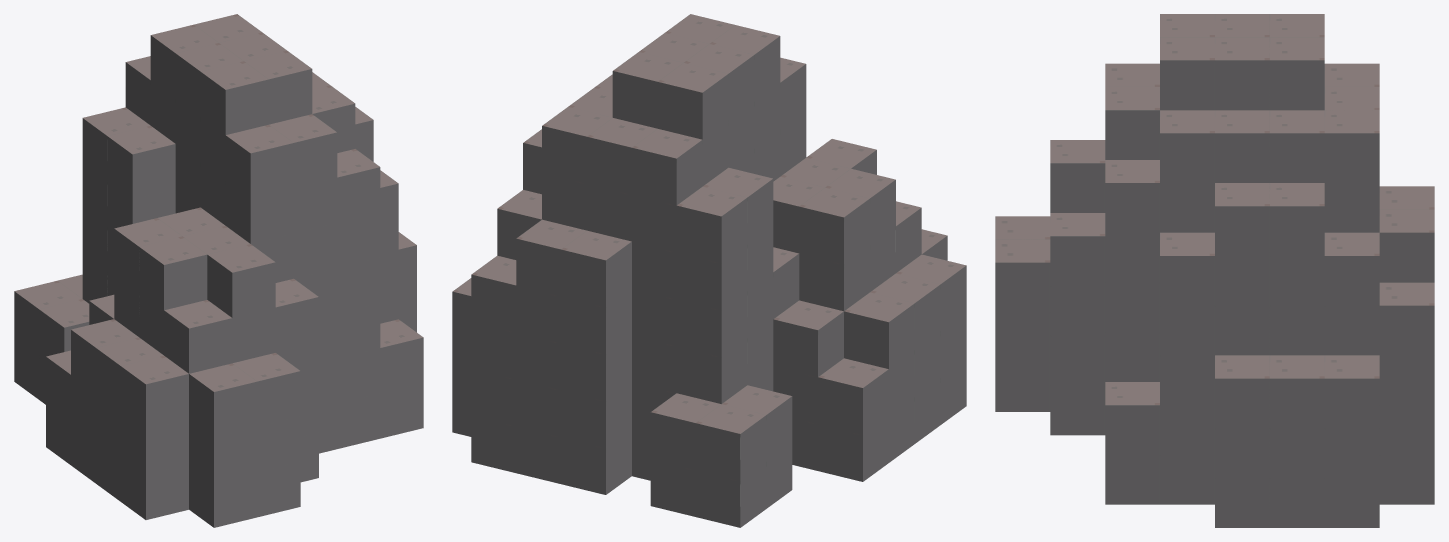
File: stone_block.fbx
The picture shows the model from 3 angles, left to right: view 1: azimuth 30°, elevation 25°; view 2: azimuth 150°, elevation 25°; view 3: azimuth 270°, elevation 25°; orthographic projection. The views are drawn at different scales.
Visible parts, largest first — view 1: stone_block13, stone_block67, stone_block108, stone_block74, stone_block57, stone_block158, stone_block59, stone_block15, stone_block70, stone_block73, stone_block215, stone_block109 (+65 smaller); view 2: stone_block227, stone_block69, stone_block72, stone_block22, stone_block151, stone_block17, stone_block43, stone_block89, stone_block24, stone_block201, stone_block66, stone_block34 (+69 smaller); view 3: stone_block54, stone_block195, stone_block37, stone_block36, stone_block65, stone_block53, stone_block28, stone_block82, stone_block74, stone_block20, stone_block168, stone_block148 (+47 smaller).
Part boxes in pixels (box(x1,y1,x2,y2)): stone_block13: box(225, 124, 293, 198); stone_block67: box(189, 363, 257, 437); stone_block108: box(139, 236, 207, 310); stone_block74: box(207, 244, 275, 317); stone_block57: box(107, 125, 175, 199); stone_block158: box(200, 61, 268, 134); stone_block59: box(164, 300, 232, 373); stone_block15: box(121, 355, 188, 429); stone_block70: box(189, 419, 257, 482); stone_block73: box(189, 464, 257, 527); stone_block215: box(225, 181, 293, 243); stone_block109: box(121, 457, 188, 519); stone_block227: box(657, 63, 728, 139); stone_block69: box(695, 404, 766, 480); stone_block72: box(676, 186, 747, 263); stone_block22: box(631, 129, 702, 205); stone_block151: box(799, 187, 869, 264); stone_block17: box(561, 230, 631, 307); stone_block43: box(818, 358, 888, 434); stone_block89: box(844, 292, 914, 368); stone_block24: box(773, 300, 843, 376); stone_block201: box(676, 245, 747, 310); stone_block66: box(695, 462, 766, 527); stone_block34: box(676, 338, 747, 403); stone_block54: box(1324, 355, 1379, 428); stone_block195: box(1324, 232, 1379, 305); stone_block37: box(1379, 209, 1434, 282); stone_block36: box(1379, 282, 1434, 355); stone_block65: box(995, 239, 1050, 312); stone_block53: box(1269, 355, 1324, 428); stone_block28: box(1269, 37, 1324, 110); stone_block82: box(1324, 110, 1379, 182); stone_block74: box(1050, 140, 1105, 212); stone_block20: box(1050, 213, 1105, 285); stone_block168: box(1269, 110, 1324, 182); stone_block148: box(1215, 37, 1269, 110).
Size of the model in its own units: 399 by 399 by 399.
